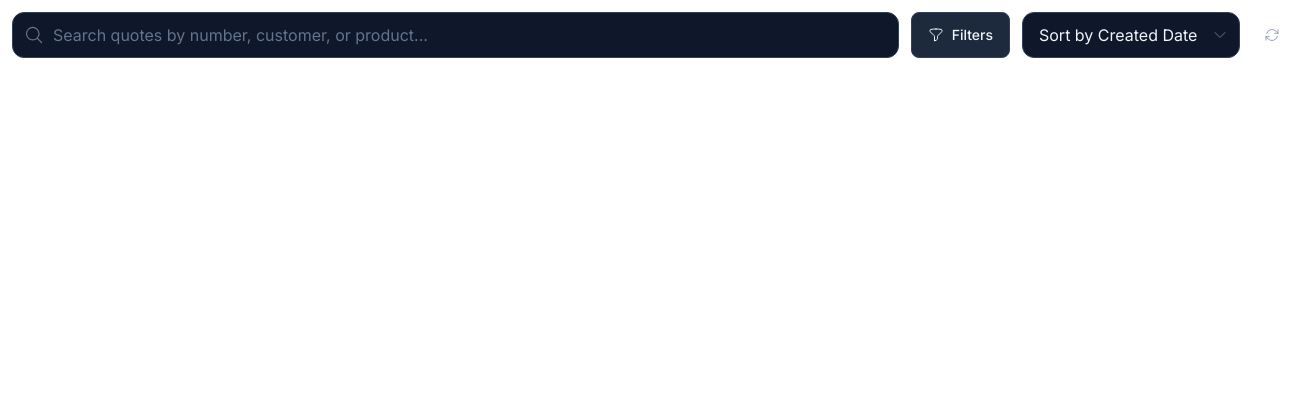
Test: QuoteFilters › status filtering › renders all status options when filters opened
// Open filters panel
Click the button "Filters" at (960, 35), box [911,12,1010,58]
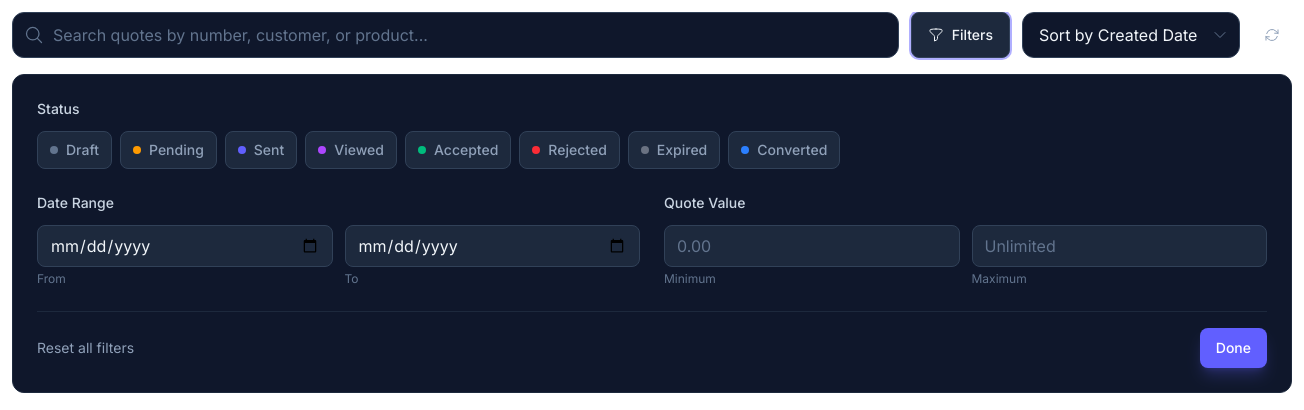
Now the button "Draft" is shown, box [37,131,112,169]
Now the button "Pending" is shown, box [120,131,217,169]
Now the button "Accepted" is shown, box [405,131,511,169]
